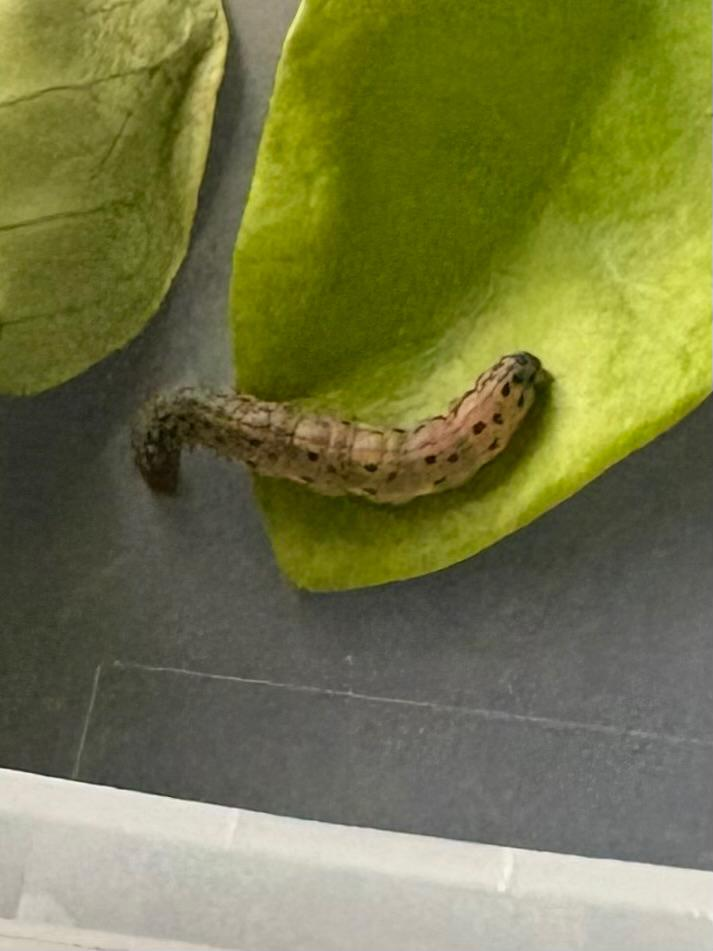caterpillars: (81, 304, 590, 577)
